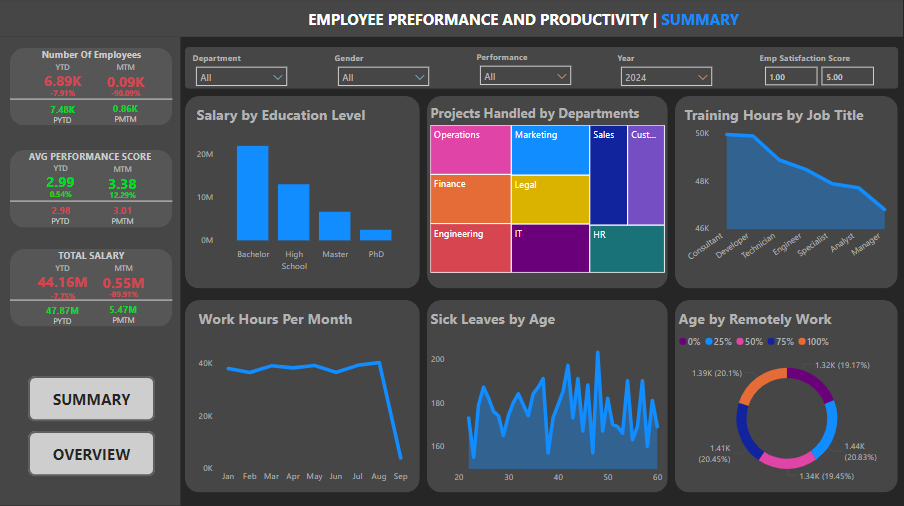

Layout of this report page (visuals, bound fields, positions):
{"tool":"powerbi","page":{"name":"Summary","canvas":[1280,720],"ordinal":0},"visuals":[{"type":"shape","box":[0,0,1279.8,55],"z":0},{"type":"shape","box":[0,55.7,255.7,664.3],"z":1000},{"type":"shape","box":[262.8,69.4,1011.1,59.4],"z":2000},{"type":"shape","box":[262.9,138.6,332.9,272.9],"z":3000},{"type":"shape","box":[605.7,138.6,341.4,272.9],"z":4000},{"type":"shape","box":[957.1,138.6,315.7,272.9],"z":5000},{"type":"shape","box":[14,71,230,110],"z":6000,"group":"g1"},{"type":"shape","box":[14.8,215.6,230,110],"z":6000,"group":"g2"},{"type":"shape","box":[14.4,355.3,230,110],"z":6000,"group":"g3"},{"type":"shape","box":[262.9,428.6,332.9,272.9],"z":6000},{"type":"shape","box":[605.7,428.6,341.4,272.9],"z":7000},{"type":"shape","box":[957.1,428.6,315.7,272.9],"z":8000},{"type":"textbox","box":[387.6,10,710.8,38.6],"z":9000},{"type":"columnChart","title":"Salary by Education Level","fields":{"Category":["Company Employees Data.Education_Level"],"Y":["Sum(Company Employees Data.Monthly_Salary)"]},"box":[272.9,150,311.4,244.3],"z":10000},{"type":"areaChart","title":"Sick Leaves by Age","fields":{"Y":["CountNonNull(Company Employees Data.Sick_Days)"],"Category":["Company Employees Data.Age"]},"box":[605.7,440,341.4,257.1],"z":11000},{"type":"donutChart","title":"Age by Remotely Work","fields":{"Y":["CountNonNull(Company Employees Data.Age)"],"Category":["Company Employees Data.Remotely Work"]},"box":[957.1,440,317.1,257.1],"z":12000},{"type":"treemap","title":"Projects Handled by Departments","fields":{"Group":["Company Employees Data.Department"],"Values":["CountNonNull(Company Employees Data.Projects_Handled)"]},"box":[605.2,150.2,341.6,243.8],"z":13000},{"type":"lineChart","fields":{"Category":["Company Employees Data.Job_Title"],"Y":["Sum(Company Employees Data.Training_Hours)"]},"box":[965.7,150,308.6,244.3],"z":14000},{"type":"slicer","title":"Department","fields":{"Values":["Company Employees Data.Department"]},"box":[268.2,76.1,148.8,51.2],"z":15000},{"type":"card","title":"YTD","fields":{"Values":["Company Employees Data.YTD No. of emp"]},"box":[43.1,90.6,89.1,42.3],"z":15000,"group":"g5"},{"type":"card","title":"YTD","fields":{"Values":["Company Employees Data.YTD Avg Performance Rating"]},"box":[42.1,235.2,89.1,42.3],"z":15000,"group":"g6"},{"type":"card","title":"YTD","fields":{"Values":["Company Employees Data.YTD Avg  Salary"]},"box":[43.8,374.8,89,42],"z":15000,"group":"g7"},{"type":"slicer","title":"Gender","fields":{"Values":["Company Employees Data.Gender"]},"box":[469.1,76.4,148.8,50.6],"z":16000},{"type":"slicer","title":"Performance","fields":{"Values":["Company Employees Data.Performance_Score"]},"box":[669.9,75.7,148.8,52.1],"z":17000},{"type":"slicer","title":"Year","fields":{"Values":["Hire Date.Year"]},"box":[870.8,76.4,148.8,50.6],"z":18000},{"type":"slicer","title":"Emp Satisfaction Score","fields":{"Values":["Company Employees Data.Employee_Satisfaction_Score"]},"box":[1071.6,76.4,178.6,50.6],"z":19000},{"type":"group","id":"g1","title":"Group 3","box":[14,67,230.7,122],"z":20000},{"type":"group","id":"g2","title":"Group 3","box":[14.8,211.9,229.2,120.6],"z":21000},{"type":"group","id":"g3","title":"Group 3","box":[14.4,351.3,230.7,121.2],"z":22000},{"type":"lineChart","title":" Work Hours Per Month","fields":{"Category":["Hire Date.Month"],"Y":["Sum(Company Employees Data.Work_Hours_Per_Week)"]},"box":[276.7,440,308.9,256.7],"z":23000},{"type":"actionButton","title":"SUMMARY","box":[39.3,536.3,180.2,64.4],"z":23001,"group":"g4"},{"type":"actionButton","title":"SUMMARY","box":[39.3,615,180.2,64.4],"z":23002,"group":"g4"},{"type":"group","id":"g4","title":"Group 4","box":[39.3,536.3,180.2,143],"z":23003},{"type":"textbox","box":[47.6,67,162.7,29.1],"z":26000,"group":"g1"},{"type":"textbox","box":[25.2,211.9,206.9,29.8],"z":26000,"group":"g2"},{"type":"textbox","box":[48.5,351.3,162.7,29.1],"z":26000,"group":"g3"},{"type":"shape","box":[14.2,137.8,230,11.7],"z":27000,"group":"g1"},{"type":"card","title":"PYTD","fields":{"Values":["Company Employees Data.PYTD No.of Emp"]},"box":[52.6,145.6,70,26.4],"z":27000,"group":"g5"},{"type":"shape","box":[15,282.4,230,11.7],"z":27000,"group":"g2"},{"type":"card","title":"PYTD","fields":{"Values":["Company Employees Data.PYTD Avg Performance Rating"]},"box":[51.6,290.2,70,26.4],"z":27000,"group":"g6"},{"type":"shape","box":[15.1,422.1,230,11.7],"z":27000,"group":"g3"},{"type":"card","title":"PYTD","fields":{"Values":["Company Employees Data.PYTD Avg Salary"]},"box":[53.3,429.9,70,26.4],"z":27000,"group":"g7"},{"type":"group","id":"g5","title":"Group 1","box":[43.1,90.6,89.1,97.6],"z":28000,"group":"g1"},{"type":"card","title":"PYTD No.of Emp","fields":{"Values":["Company Employees Data.Emp Percengate"]},"box":[54.9,121.1,65.6,30.6],"z":28000,"group":"g5"},{"type":"group","id":"g6","title":"Group 1","box":[42.1,235.2,89.1,97.6],"z":28000,"group":"g2"},{"type":"card","title":"PYTD No.of Emp","fields":{"Values":["Company Employees Data.AVg Performance %"]},"box":[61.9,269.3,49.5,26.8],"z":28000,"group":"g6"},{"type":"group","id":"g7","title":"Group 1","box":[43.8,374.8,89,97.7],"z":28000,"group":"g3"},{"type":"card","title":"PYTD No.of Emp","fields":{"Values":["Company Employees Data.Salary Diff %"]},"box":[57.8,409.8,61,26],"z":28000,"group":"g7"},{"type":"group","id":"g8","title":"Group 2","box":[137.7,91.7,80,95.5],"z":29000,"group":"g1"},{"type":"group","id":"g9","title":"Group 2","box":[135.8,236.3,77.7,95.5],"z":29000,"group":"g2"},{"type":"group","id":"g10","title":"Group 2","box":[135.8,376,77.7,95.5],"z":29000,"group":"g3"},{"type":"card","title":"MTM","fields":{"Values":["Company Employees Data.MTM No of EMp"]},"box":[138.8,91.7,77.7,44.1],"z":30000,"group":"g8"},{"type":"card","title":"MTM","fields":{"Values":["Company Employees Data.MTM Avg Performance"]},"box":[135.8,236.3,77.7,44.1],"z":30000,"group":"g9"},{"type":"card","title":"MTM","fields":{"Values":["Company Employees Data.MTM Salary"]},"box":[135.8,376,77.7,44.1],"z":30000,"group":"g10"},{"type":"card","title":"PMTM","fields":{"Values":["Company Employees Data.PMTM Emp"]},"box":[145.9,145.3,63.6,26.4],"z":31000,"group":"g8"},{"type":"card","title":"PMTM","fields":{"Values":["Company Employees Data.PMTM Avg Performance"]},"box":[142.8,289.9,63.6,26.4],"z":31000,"group":"g9"},{"type":"card","title":"PMTM","fields":{"Values":["Company Employees Data.PMTM Salary"]},"box":[142.8,429.6,63.6,26.4],"z":31000,"group":"g10"},{"type":"textbox","box":[63.2,158.8,48.8,29.4],"z":32000,"group":"g5"},{"type":"textbox","box":[62.2,303.4,48.8,29.4],"z":32000,"group":"g6"},{"type":"textbox","box":[63.9,443.1,48.8,29.4],"z":32000,"group":"g7"},{"type":"textbox","box":[153.2,158.5,49.1,28.6],"z":34000,"group":"g8"},{"type":"textbox","box":[150.1,303.1,49.1,28.6],"z":34000,"group":"g9"},{"type":"textbox","box":[150.1,442.8,49.1,28.6],"z":34000,"group":"g10"},{"type":"card","title":"PYTD No.of Emp","fields":{"Values":["Company Employees Data.MTM Emp %"]},"box":[137.7,124.3,80,28.4],"z":35000,"group":"g8"},{"type":"card","title":"PYTD No.of Emp","fields":{"Values":["Company Employees Data.MTM Performance %"]},"box":[149.9,270.5,49.6,27.1],"z":35000,"group":"g9"},{"type":"card","title":"PYTD No.of Emp","fields":{"Values":["Company Employees Data.MTM Salary %"]},"box":[146.3,407.7,56.7,23.3],"z":35000,"group":"g10"}]}

Visuals, with their boxes in screenshot pixels (x1, y1, x2, y2), scaled from the page's 1280x720 canvas onto the 904x506 screenshot:
shape: detection(0, 0, 903, 39)
shape: detection(0, 39, 181, 505)
shape: detection(186, 49, 900, 91)
shape: detection(186, 97, 421, 289)
shape: detection(428, 97, 669, 289)
shape: detection(676, 97, 899, 289)
shape: detection(10, 50, 172, 127)
shape: detection(10, 152, 173, 229)
shape: detection(10, 250, 173, 327)
shape: detection(186, 301, 421, 493)
shape: detection(428, 301, 669, 493)
shape: detection(676, 301, 899, 493)
textbox: detection(274, 7, 776, 34)
"Salary by Education Level" columnChart: detection(193, 105, 413, 277)
"Sick Leaves by Age" areaChart: detection(428, 309, 669, 490)
"Age by Remotely Work" donutChart: detection(676, 309, 900, 490)
"Projects Handled by Departments" treemap: detection(427, 106, 669, 277)
lineChart - Company Employees Data.Job_Title x Sum(Company Employees Data.Training_Hours): detection(682, 105, 900, 277)
"Department" slicer: detection(189, 53, 295, 89)
"YTD" card: detection(30, 64, 93, 93)
"YTD" card: detection(30, 165, 93, 195)
"YTD" card: detection(31, 263, 94, 293)
"Gender" slicer: detection(331, 54, 436, 89)
"Performance" slicer: detection(473, 53, 578, 90)
"Year" slicer: detection(615, 54, 720, 89)
"Emp Satisfaction Score" slicer: detection(757, 54, 883, 89)
"Group 3" group: detection(10, 47, 173, 133)
"Group 3" group: detection(10, 149, 172, 234)
"Group 3" group: detection(10, 247, 173, 332)
" Work Hours Per Month" lineChart: detection(195, 309, 414, 490)
"SUMMARY" actionButton: detection(28, 377, 155, 422)
"SUMMARY" actionButton: detection(28, 432, 155, 477)
"Group 4" group: detection(28, 377, 155, 477)
textbox: detection(34, 47, 149, 68)
textbox: detection(18, 149, 164, 170)
textbox: detection(34, 247, 149, 267)
shape: detection(10, 97, 172, 105)
"PYTD" card: detection(37, 102, 87, 121)
shape: detection(11, 198, 173, 207)
"PYTD" card: detection(36, 204, 86, 222)
shape: detection(11, 297, 173, 305)
"PYTD" card: detection(38, 302, 87, 321)
"Group 1" group: detection(30, 64, 93, 132)
"PYTD No.of Emp" card: detection(39, 85, 85, 107)
"Group 1" group: detection(30, 165, 93, 234)
"PYTD No.of Emp" card: detection(44, 189, 79, 208)
"Group 1" group: detection(31, 263, 94, 332)
"PYTD No.of Emp" card: detection(41, 288, 84, 306)
"Group 2" group: detection(97, 64, 154, 132)
"Group 2" group: detection(96, 166, 151, 233)
"Group 2" group: detection(96, 264, 151, 331)
"MTM" card: detection(98, 64, 153, 95)
"MTM" card: detection(96, 166, 151, 197)
"MTM" card: detection(96, 264, 151, 295)
"PMTM" card: detection(103, 102, 148, 121)
"PMTM" card: detection(101, 204, 146, 222)
"PMTM" card: detection(101, 302, 146, 320)
textbox: detection(45, 112, 79, 132)
textbox: detection(44, 213, 78, 234)
textbox: detection(45, 311, 80, 332)
textbox: detection(108, 111, 143, 131)
textbox: detection(106, 213, 141, 233)
textbox: detection(106, 311, 141, 331)
"PYTD No.of Emp" card: detection(97, 87, 154, 107)
"PYTD No.of Emp" card: detection(106, 190, 141, 209)
"PYTD No.of Emp" card: detection(103, 287, 143, 303)
